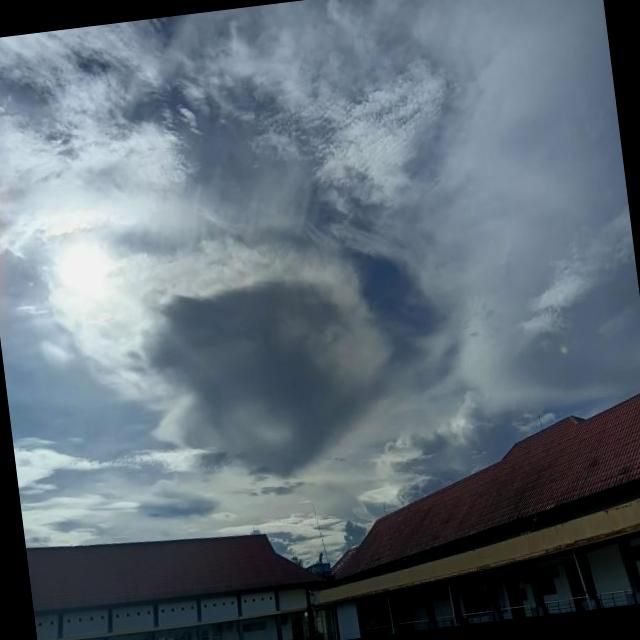altocumulus: (0, 0, 625, 473)
